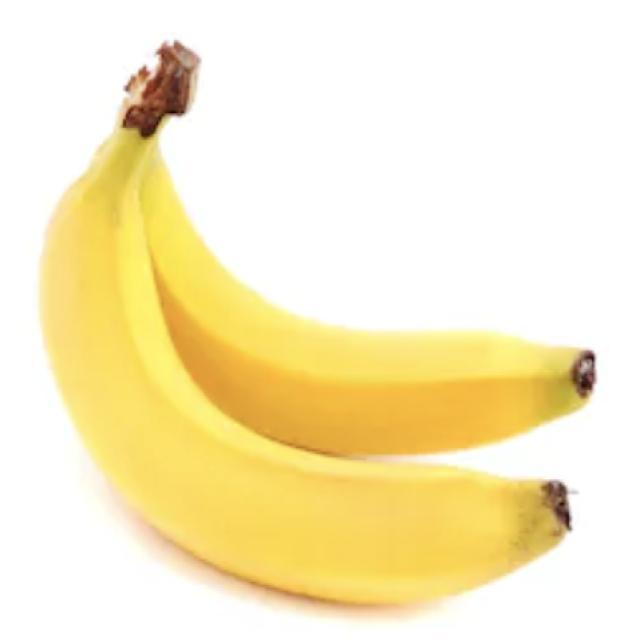Banana: (37, 38, 596, 607)
